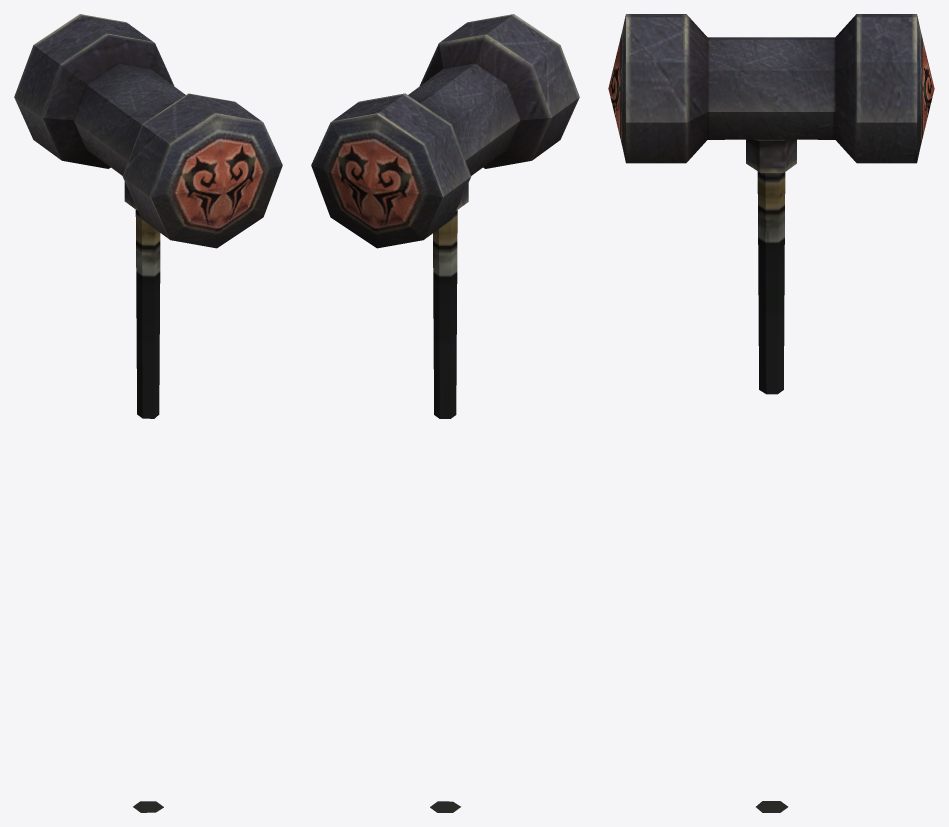
File: Whale_razanHammer_hammer.obj
3 views of the same model, side by side, from view 1: azimuth 30°, elevation 25°; view 2: azimuth 150°, elevation 25°; view 3: azimuth 270°, elevation 25° (orthographic). The views are drawn at different scales.
Visible parts, largest first — view 1: Whale_razanHammer_tri [hammer]; view 2: Whale_razanHammer_tri [hammer]; view 3: Whale_razanHammer_tri [hammer].
Part boxes in pixels (x1,y1,x2,y2): Whale_razanHammer_tri [hammer]: (14, 14, 282, 812); Whale_razanHammer_tri [hammer]: (311, 14, 579, 812); Whale_razanHammer_tri [hammer]: (608, 14, 934, 812).
Size of the model in its own units: 0.4534 by 2.44 by 0.9145.
1 material, 1 textured.
